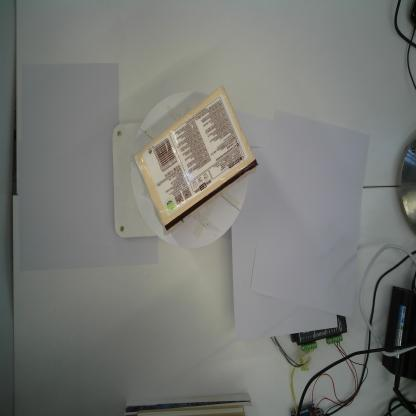Tissue: (135, 83, 258, 234)
